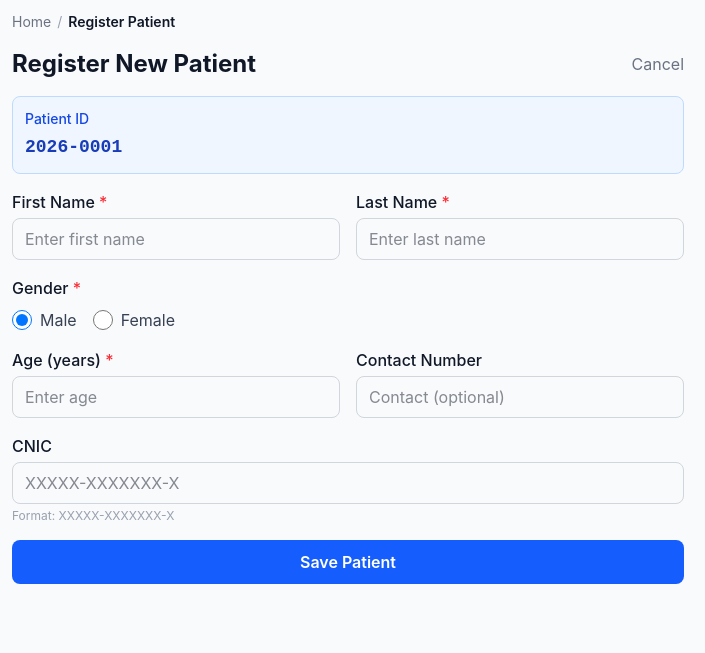
Test case: RegisterPatientPage › validates required fields and prevents save when empty
The image size is (705, 653).
Click the button "Save Patient".
click(348, 562)  # box x1=12 y1=540 x2=684 y2=584
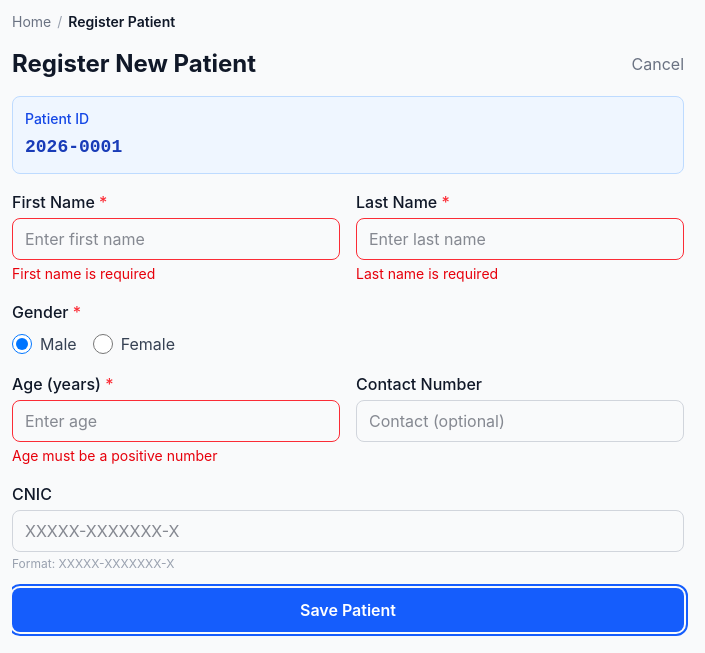
Result: the text "First name is required" is shown at x1=12 y1=265 x2=155 y2=282
Result: the text "Last name is required" is shown at x1=356 y1=265 x2=498 y2=282
Result: the text "Age must be a positive number" is shown at x1=12 y1=447 x2=218 y2=464
